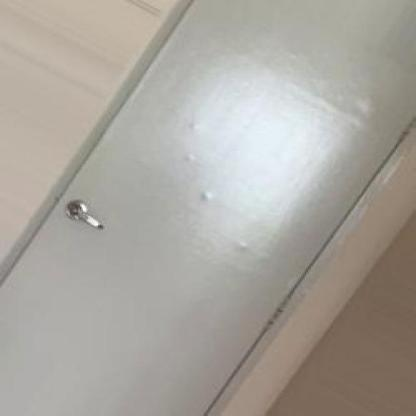door: (41, 4, 413, 398)
